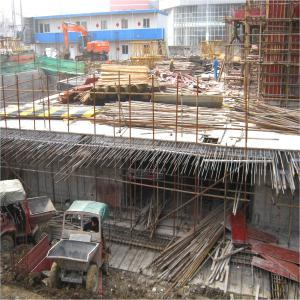none: (92, 217, 99, 228)
red: (93, 48, 95, 52), (103, 48, 105, 51)
yellow: (233, 23, 237, 28), (172, 59, 175, 64), (157, 70, 160, 75), (214, 57, 217, 61)
